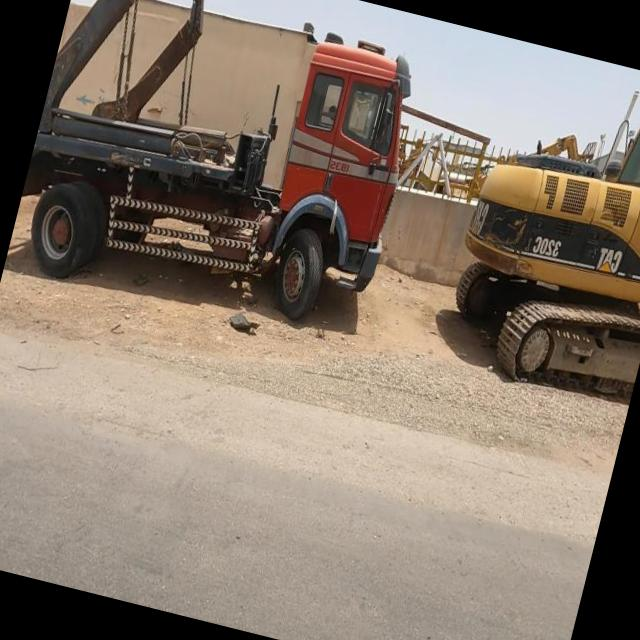debris: (177, 252, 306, 394)
